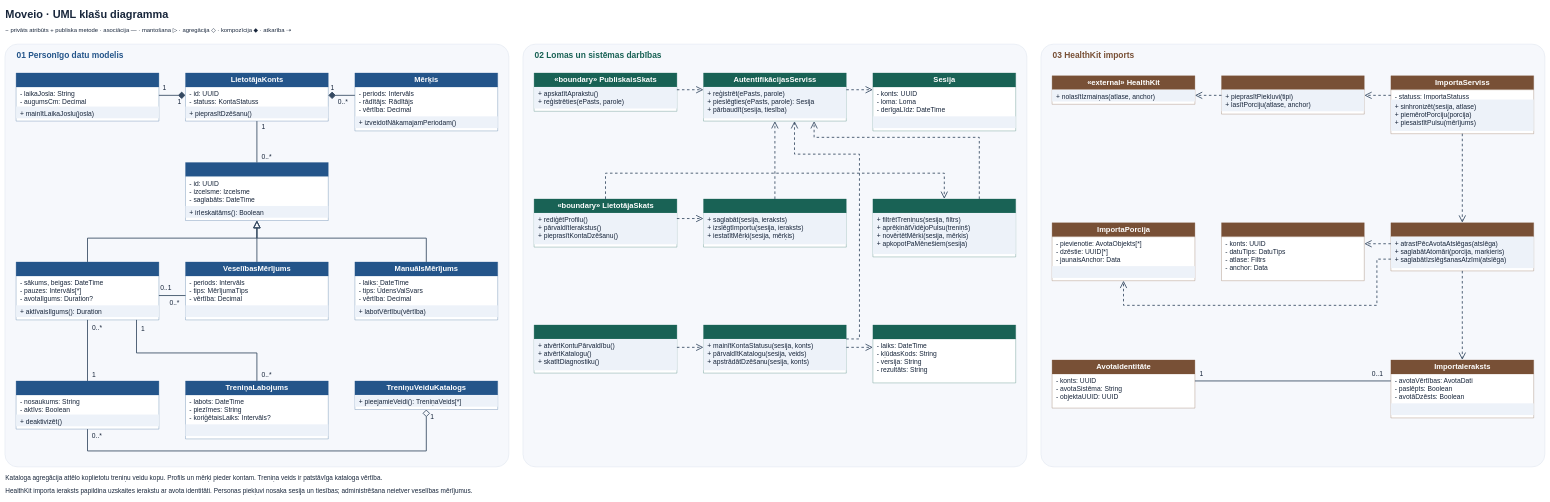
This 1550x502 diagram has some shape labels left out. Each missing label, with the box of its shape:
+ beigt(): (873, 116, 1016, 128)
+ irDerīgs(): Boolean: (185, 305, 328, 317)
+ izslēgtNoStatistikas(): (1391, 403, 1534, 415)
+ piemērot(treniņš): (185, 424, 328, 436)
+ validēt(): (1052, 266, 1195, 278)
AdministrēšanasServiss: (703, 325, 846, 373)
AnalītikasServiss: (873, 199, 1016, 257)
DiagnostikasIeraksts: (873, 325, 1016, 383)
HealthKitAdapteris: (1221, 75, 1364, 114)
ImportaGlabātuve: (1391, 222, 1534, 271)
ImportaMarķieris: (1221, 222, 1364, 281)
PersonīgoDatuServiss: (703, 199, 846, 247)
Profils: (16, 73, 159, 121)
TreniņaVeids: (16, 381, 159, 429)
Treniņš: (16, 262, 159, 320)
UzskaitesIeraksts: (185, 162, 328, 221)
«boundary» AdministratoraSkats: (534, 325, 677, 373)
